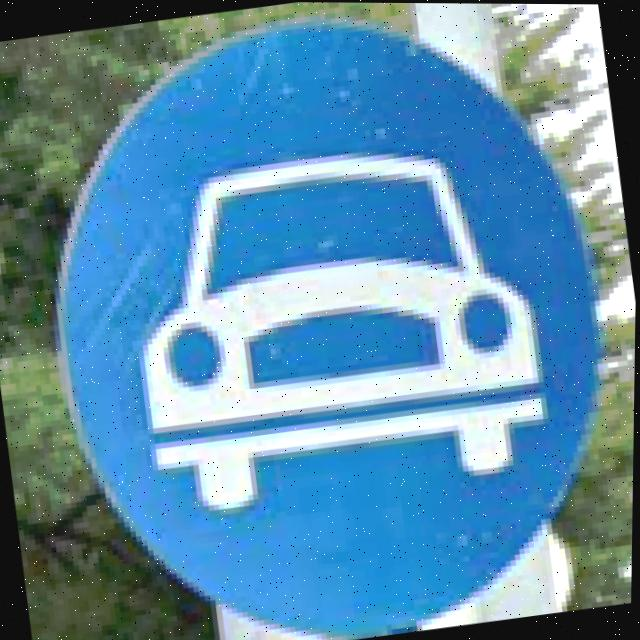car: (8, 0, 640, 640)
